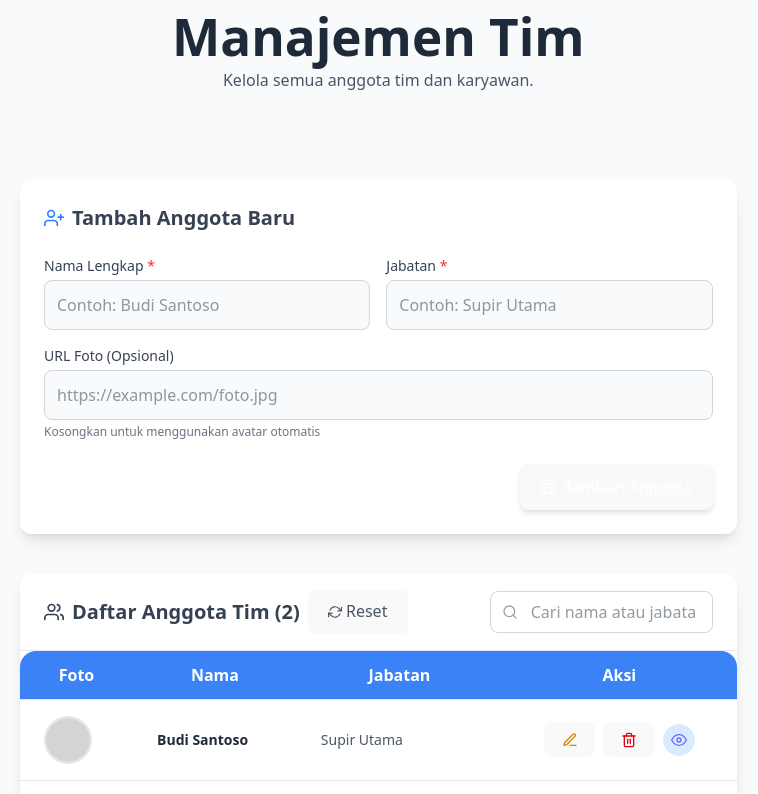
Tim - CRUD Operations › should update existing anggota tim
Check: the text "Budi Santoso" is shown, box [157,730,248,748]
Note: Click edit button on first item
Click the button titled "Edit" at [570, 740], box [544,722,595,757]
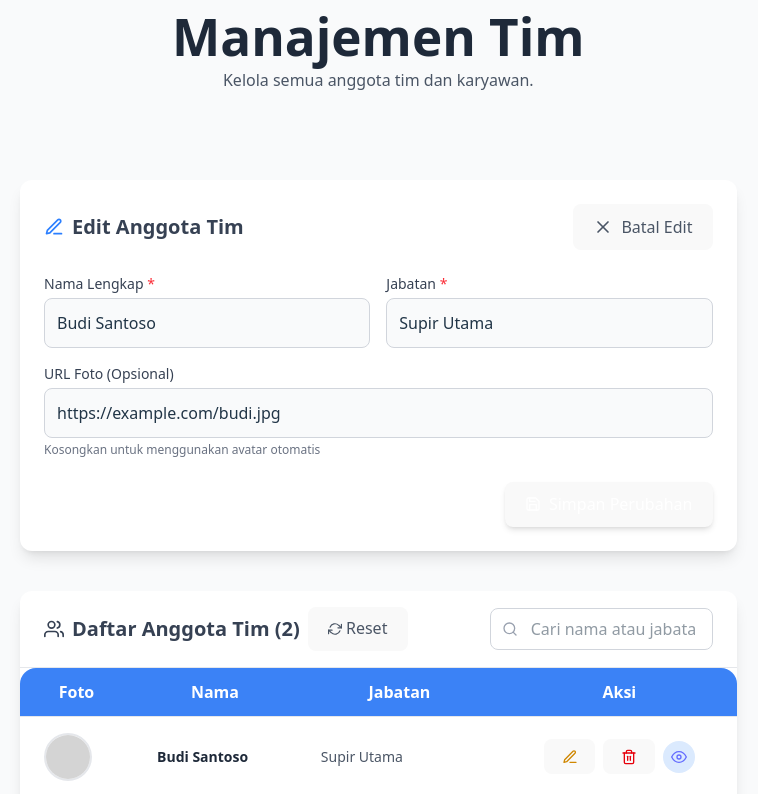
Check: the field showing "Supir Utama" is shown, box [386,298,713,348]
Note: Update form
Replace the text in the field labelled "Nama Lengkap *" with "Budi Updated" at [207, 322], box [44,298,370,348]
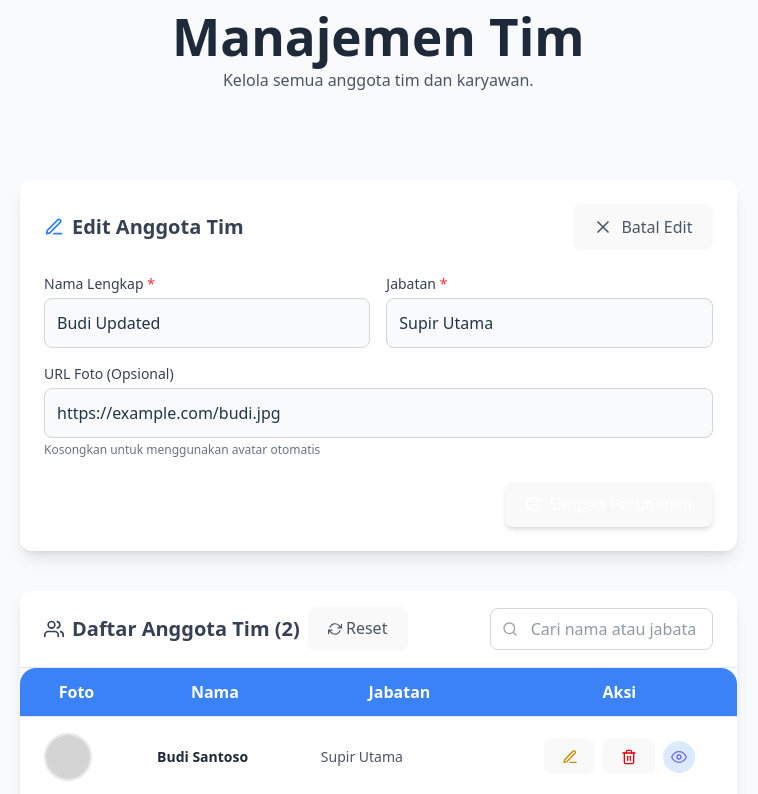
Replace the text in the field labelled "Jabatan *" with "Senior Driver" at [549, 322], box [386,298,713,348]
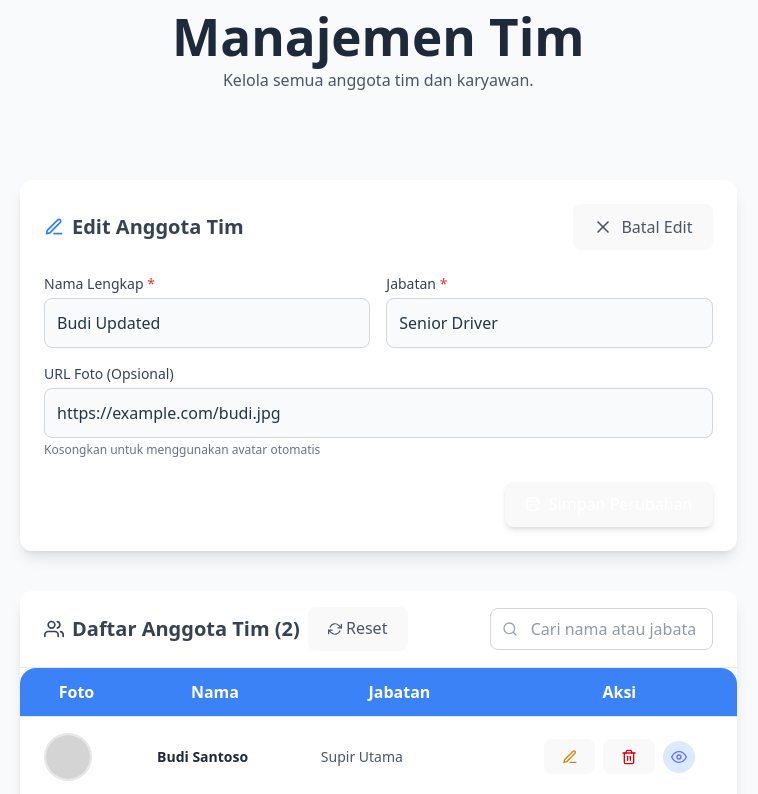
Note: Submit update
Submit the form from the button "Simpan Perubahan", box [505,482,713,527]
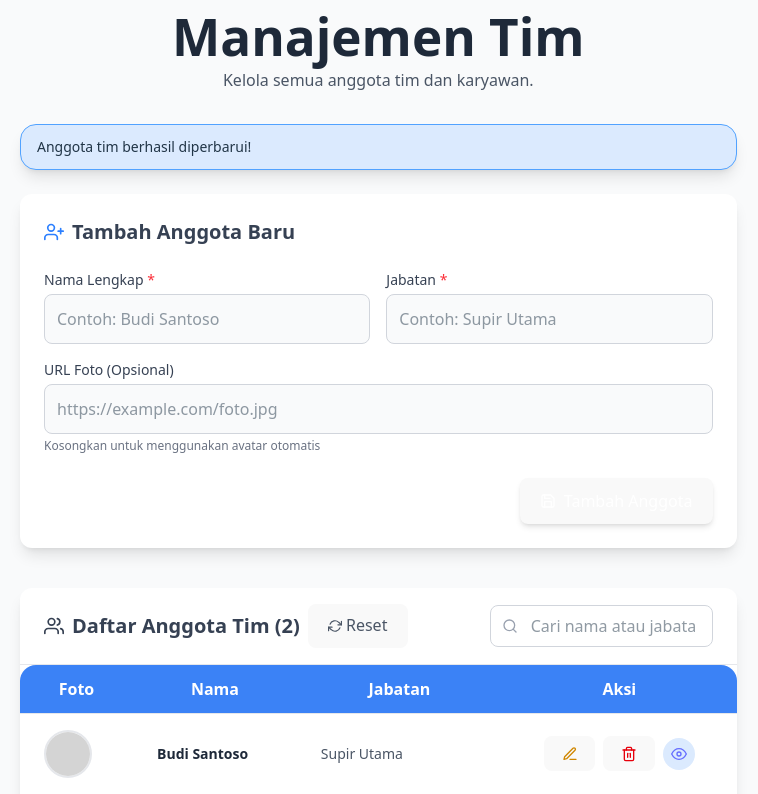
Check: the text "Anggota tim berhasil diperbarui!" is shown, box [20,124,737,170]
